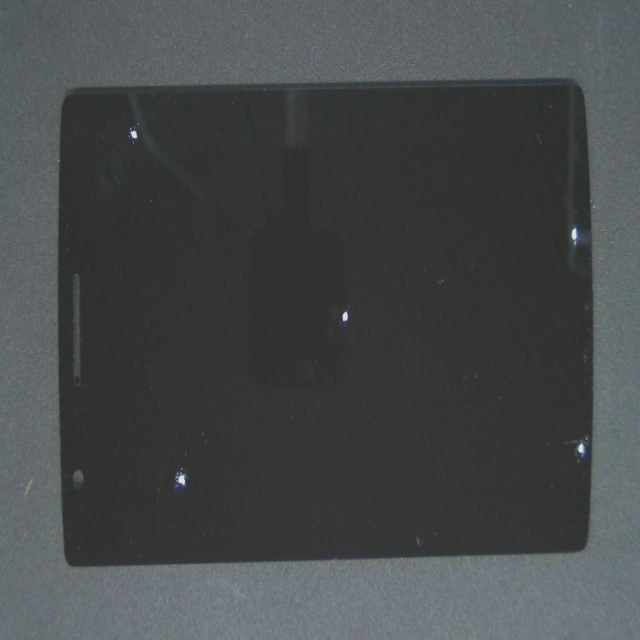stain: (303, 177, 640, 640), (147, 108, 493, 481), (289, 69, 640, 322), (54, 235, 268, 640), (89, 56, 222, 177)
